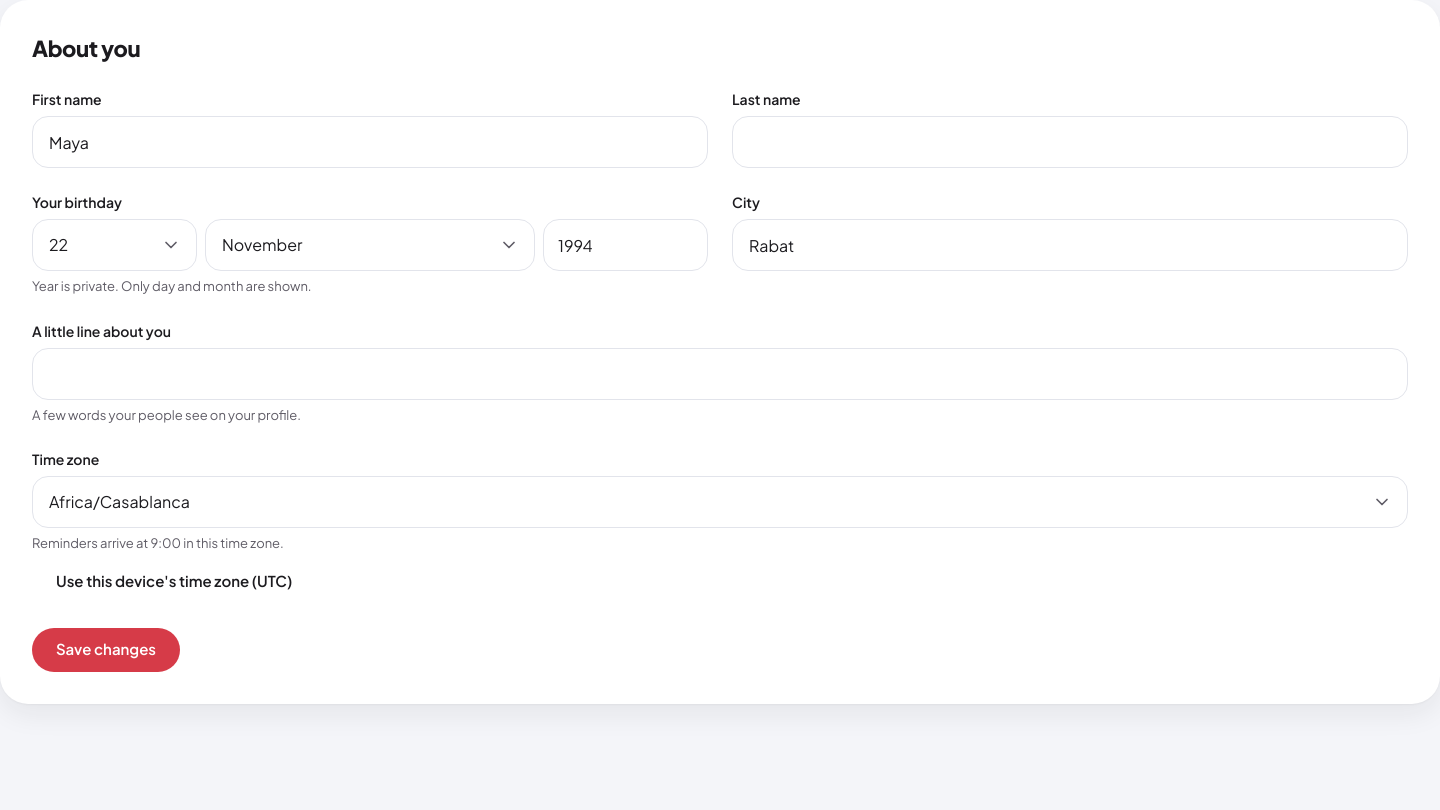
Test: Profile → About you › shows what the server says is wrong
The image size is (1440, 810).
Click the button "Save changes": click(106, 650) [32,628,180,672]
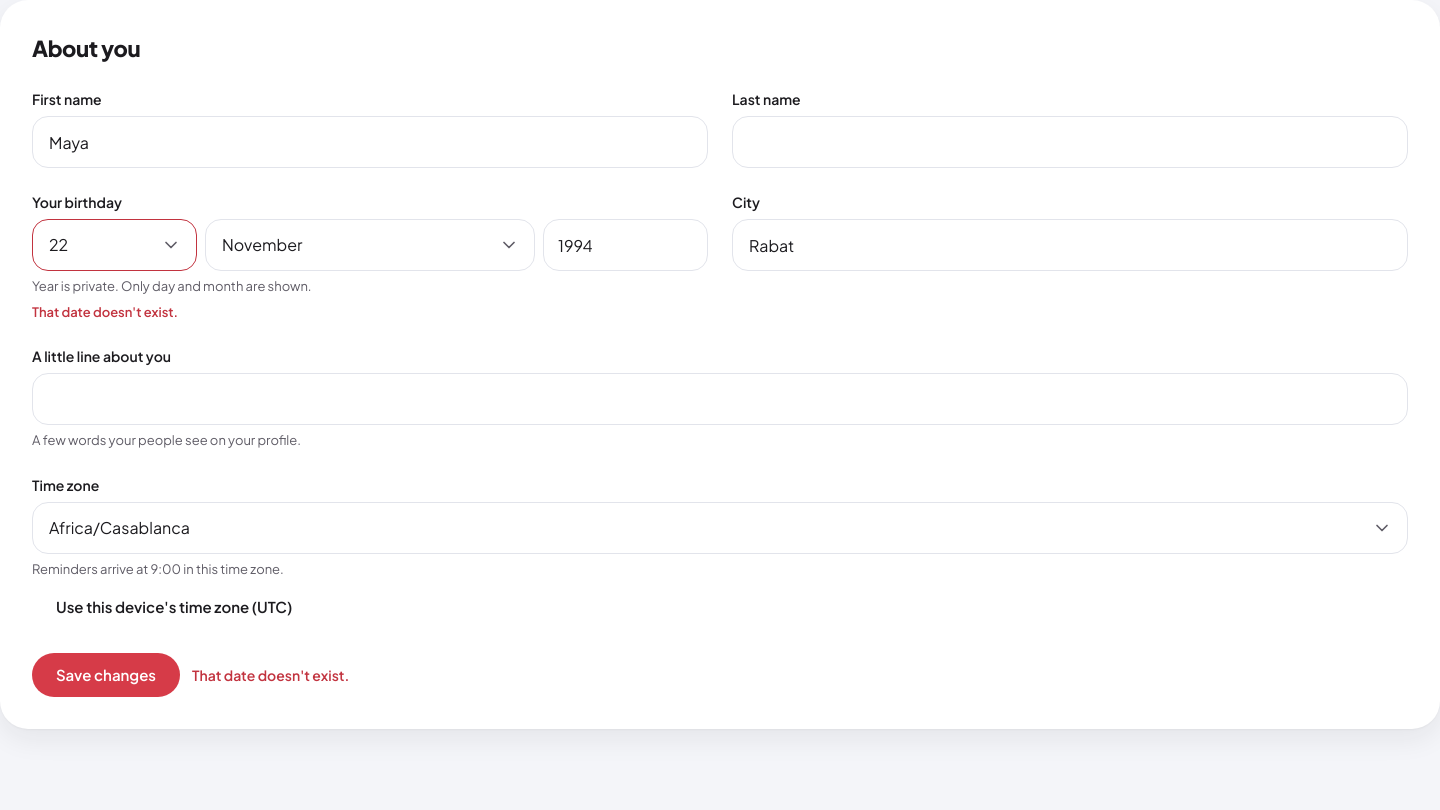
Check: the text "That date doesn't exist." is shown, box [31,302,178,320]
